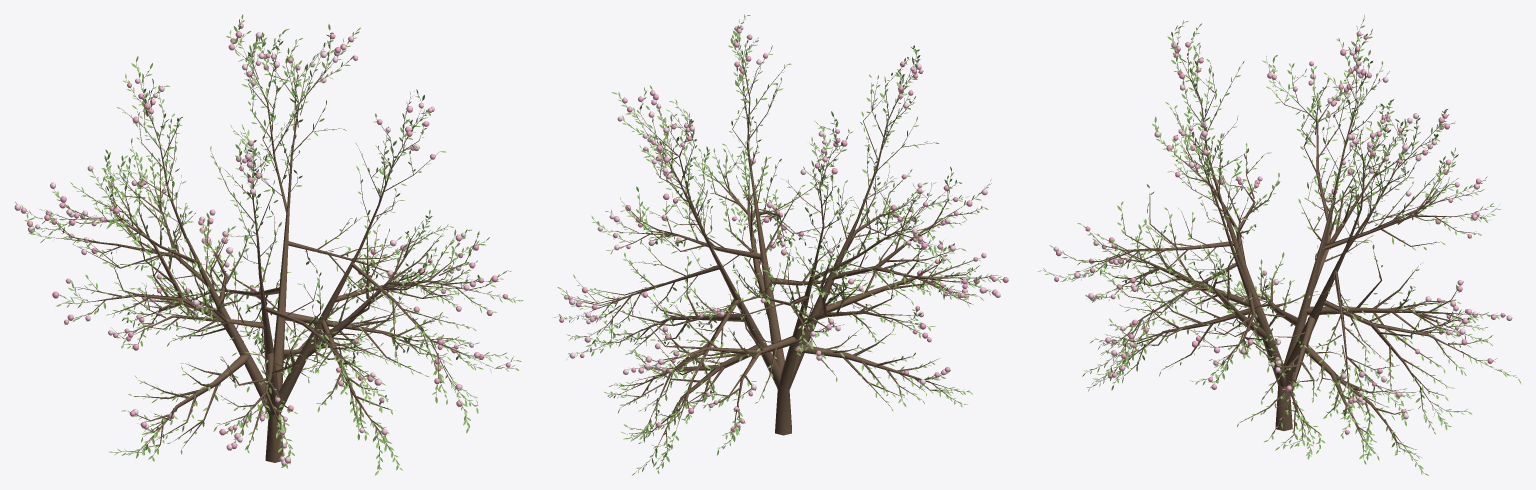
File: pecher_printemps.glb
3 views of the same model, side by side, from view 1: azimuth 30°, elevation 25°; view 2: azimuth 150°, elevation 25°; view 3: azimuth 270°, elevation 25° (orthographic). The views are drawn at different scales.
Visible parts, largest first — view 1: Pecher_Tronc, Pecher_Feuillage, Pecher_Fleurs; view 2: Pecher_Tronc, Pecher_Feuillage, Pecher_Fleurs; view 3: Pecher_Tronc, Pecher_Feuillage, Pecher_Fleurs.
Boxes of the visible parts, x1,y1,x2,y2 form: Pecher_Tronc: (21,20,518,469); Pecher_Feuillage: (15,14,522,475); Pecher_Fleurs: (14,23,510,466); Pecher_Tronc: (558,17,1001,471); Pecher_Feuillage: (553,14,1007,475); Pecher_Fleurs: (559,25,1008,431); Pecher_Tronc: (1043,19,1517,472); Pecher_Feuillage: (1038,15,1521,475); Pecher_Fleurs: (1053,31,1512,434).
Size of the model in its own units: 5.73 by 5.11 by 5.89.
